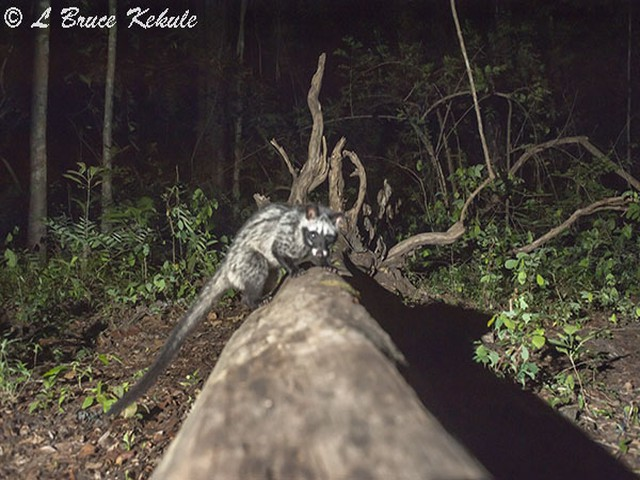civet: (124, 199, 341, 333)
